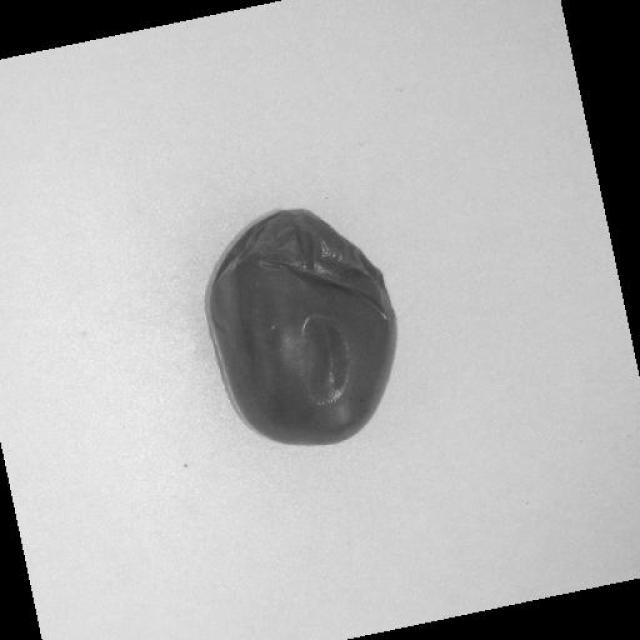Stale_tomato: (202, 192, 432, 449)
